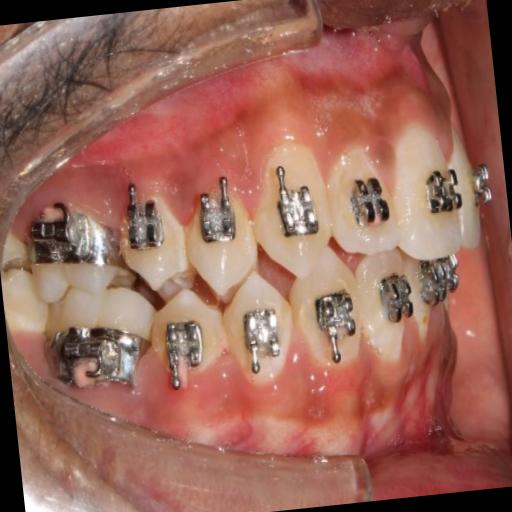correct_brace: (218, 266, 299, 388), (182, 175, 262, 298), (306, 278, 360, 361), (273, 162, 324, 244), (156, 312, 210, 388), (239, 306, 287, 374), (344, 175, 392, 237), (424, 164, 462, 224)
incorrect_brace: (386, 126, 468, 262), (326, 139, 398, 257), (194, 182, 241, 258)
